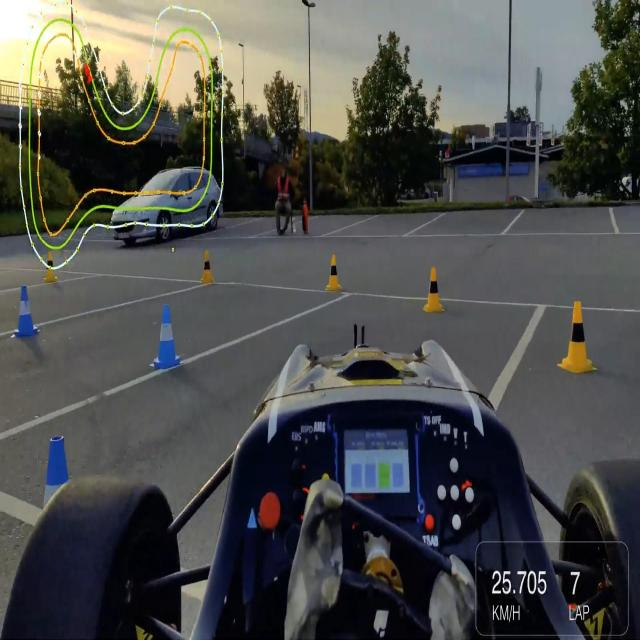blue_cone: (32, 421, 97, 589), (148, 293, 187, 375), (9, 279, 41, 348)
yellow_cone: (555, 296, 599, 375), (422, 262, 446, 316), (43, 247, 61, 289), (325, 253, 343, 295), (197, 246, 214, 288)
